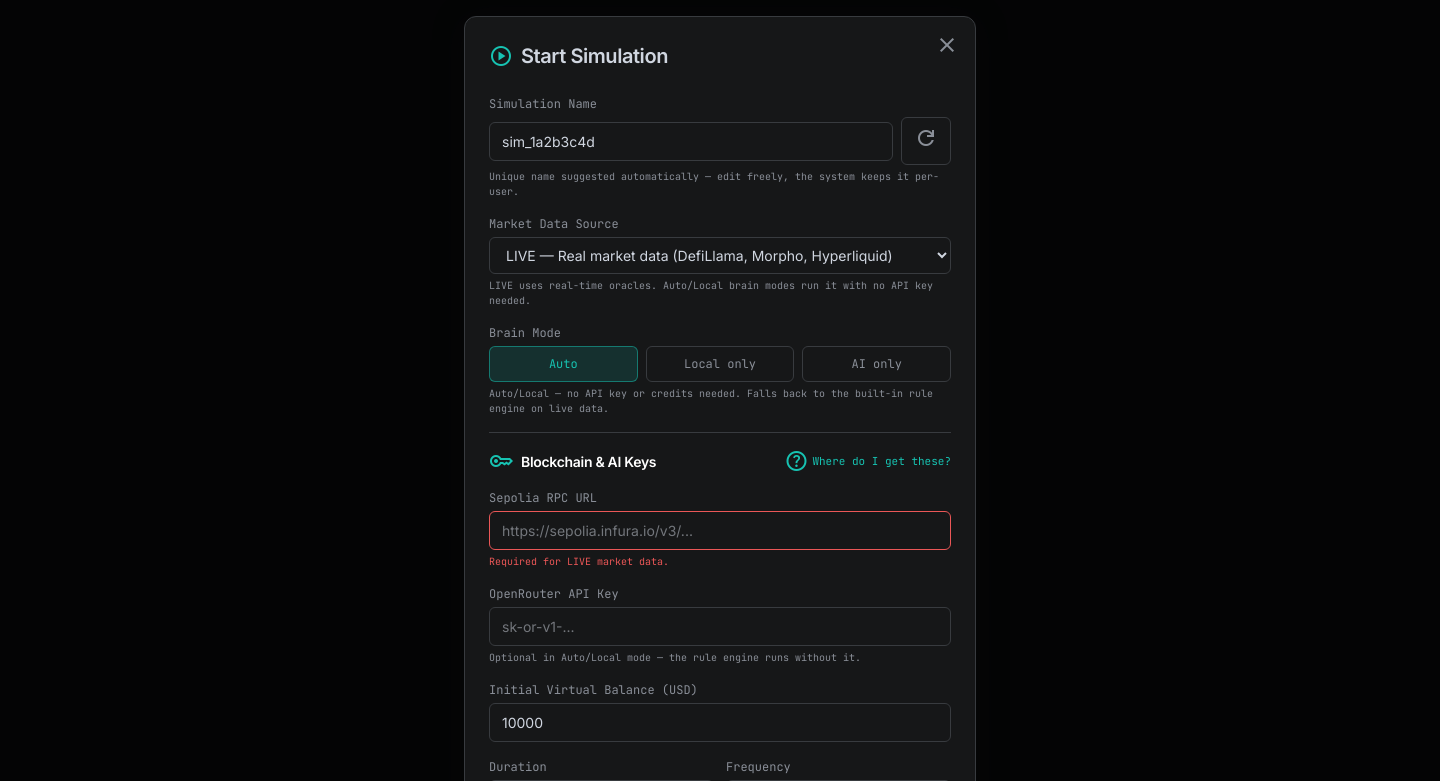
Test case: SimulationStartModal › refresh button fetches a fresh unique name
Expected: the field showing "sim_1a2b3c4d" is shown, [489,122,893,160]
Click the button named "Generate a new unique simulation name".
click(926, 141)  # box [901,117,951,165]
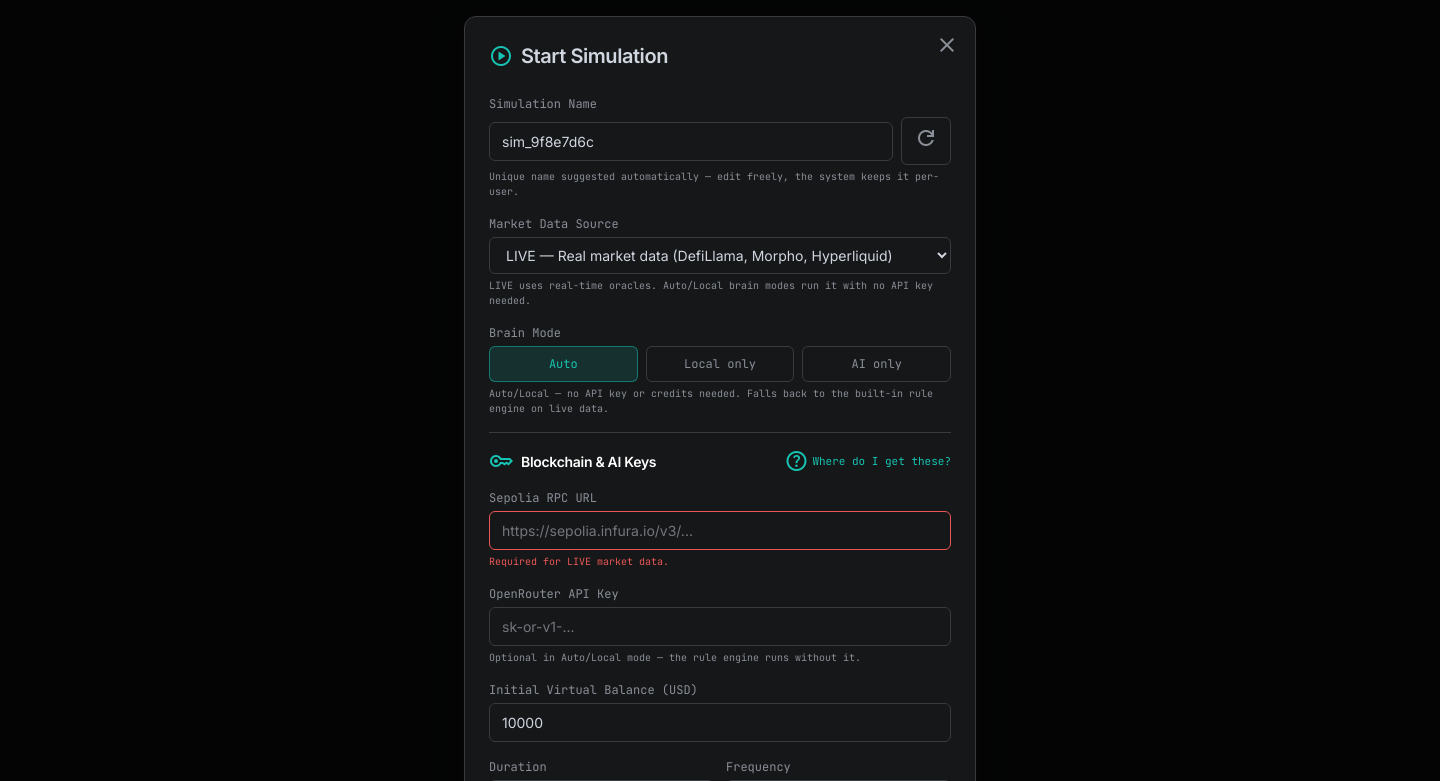
Now the field showing "sim_9f8e7d6c" is shown, box [489,122,893,160]
